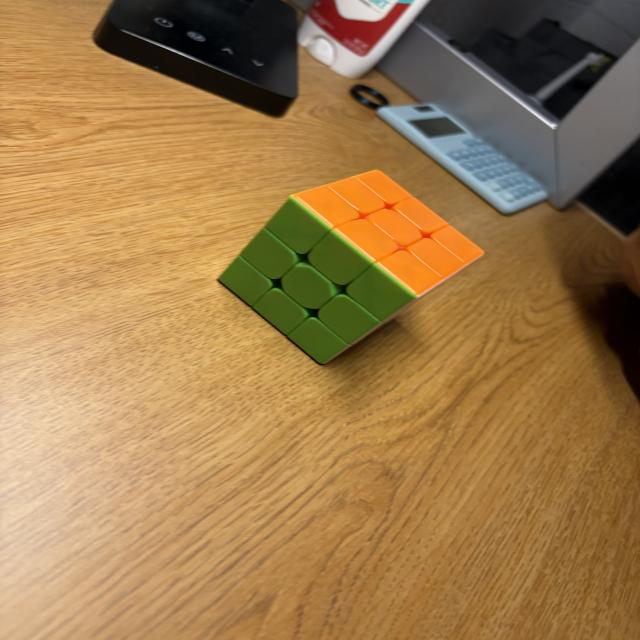Rubiks Cube: (218, 169, 487, 365)
